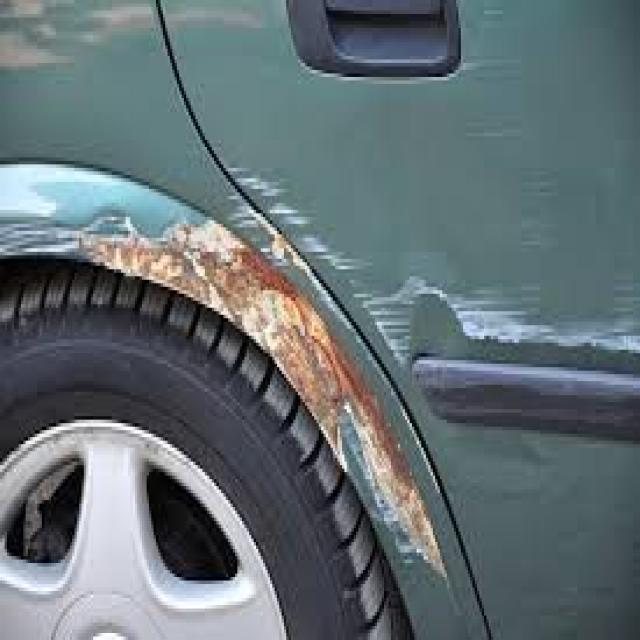minor: (42, 163, 596, 584)
